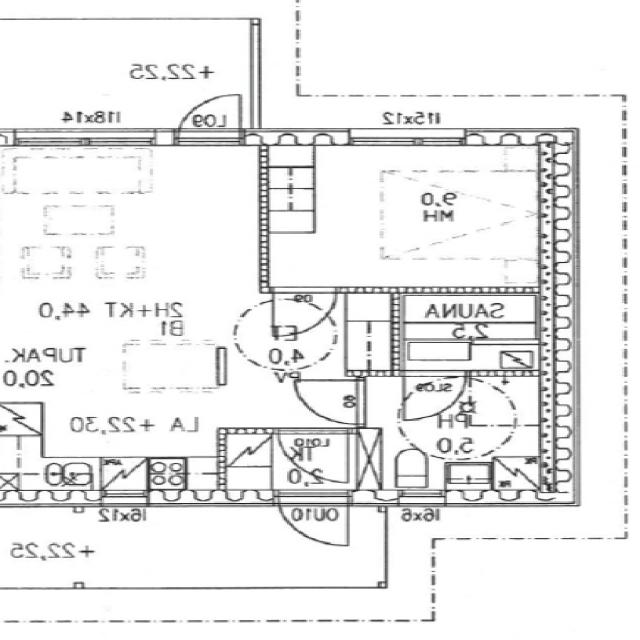door: (280, 490, 347, 553), (180, 86, 242, 145), (280, 429, 348, 482), (296, 380, 366, 424), (275, 286, 336, 336), (406, 370, 466, 419)
